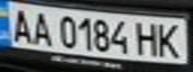0: (54, 12, 78, 50)
1: (75, 15, 93, 51)
4: (109, 17, 133, 55)
8: (90, 16, 112, 53)
A: (3, 6, 36, 44), (27, 9, 57, 46)
H: (133, 19, 163, 56)
K: (154, 20, 187, 58)
